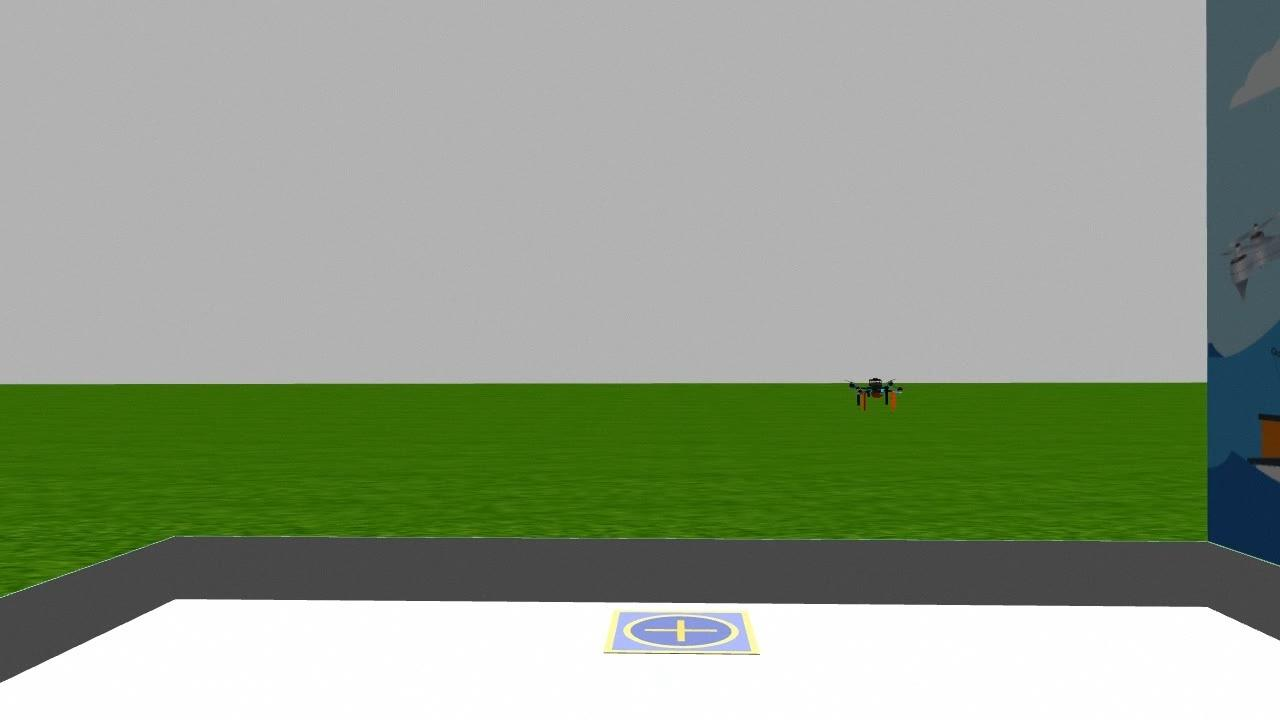UAV: (838, 366, 912, 415)
